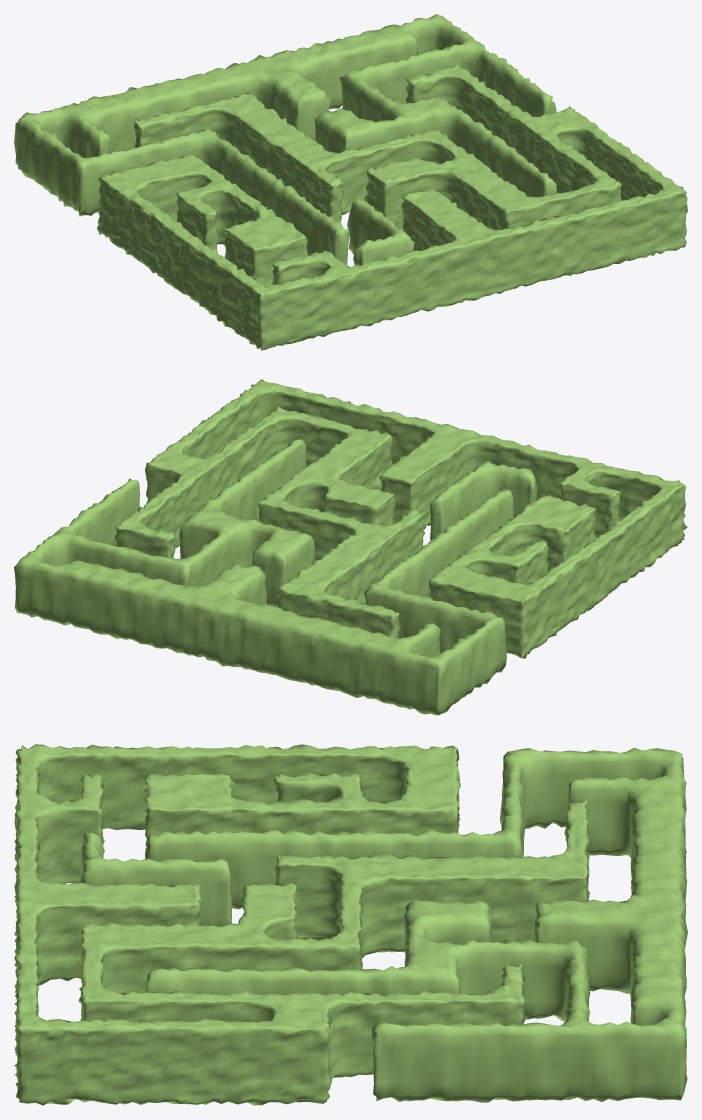
File: Maze.fbx
The picture shows the model from 3 angles, top to bottom: view 1: azimuth 30°, elevation 25°; view 2: azimuth 150°, elevation 25°; view 3: azimuth 270°, elevation 25°; orthographic projection. The views are drawn at different scales.
Visible parts, largest first — view 1: Plane.017; view 2: Plane.017; view 3: Plane.017.
Boxes of the visible parts, x1,y1,x2,y2 form: Plane.017: [14, 14, 687, 350]; Plane.017: [14, 379, 687, 715]; Plane.017: [14, 744, 687, 1105].
Size of the model in its own units: 5342 by 734 by 5330.
